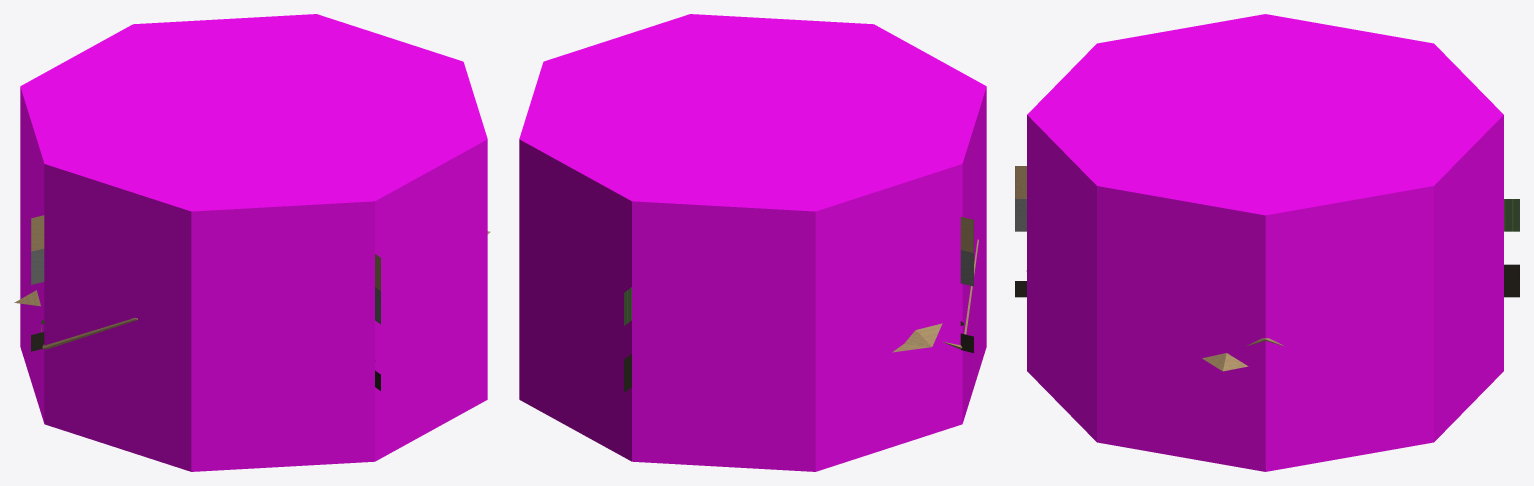
File: rock_large_tan_a.dae
The picture shows the model from 3 angles, left to right: view 1: azimuth 30°, elevation 25°; view 2: azimuth 150°, elevation 25°; view 3: azimuth 270°, elevation 25°; orthographic projection.
Visible parts, largest first — view 1: Colmesh_rock-1, rock_large_tan_a_a50; view 2: Colmesh_rock-1, rock_large_tan_a_a50, rock_large_tan_a_a200; view 3: Colmesh_rock-1, rock_large_tan_a_a50.
Part boxes in pixels (box(x1,y1,x2,y2)): Colmesh_rock-1: box(20, 14, 487, 471); rock_large_tan_a_a50: box(31, 215, 380, 390); Colmesh_rock-1: box(519, 14, 986, 471); rock_large_tan_a_a50: box(624, 216, 973, 392); rock_large_tan_a_a200: box(892, 241, 978, 352); Colmesh_rock-1: box(1027, 14, 1503, 471); rock_large_tan_a_a50: box(1015, 166, 1519, 297).
Bounding box in the file's own units: 3.05 × 3.05 × 1.71.
Materials: 2 (1 with a texture image).
